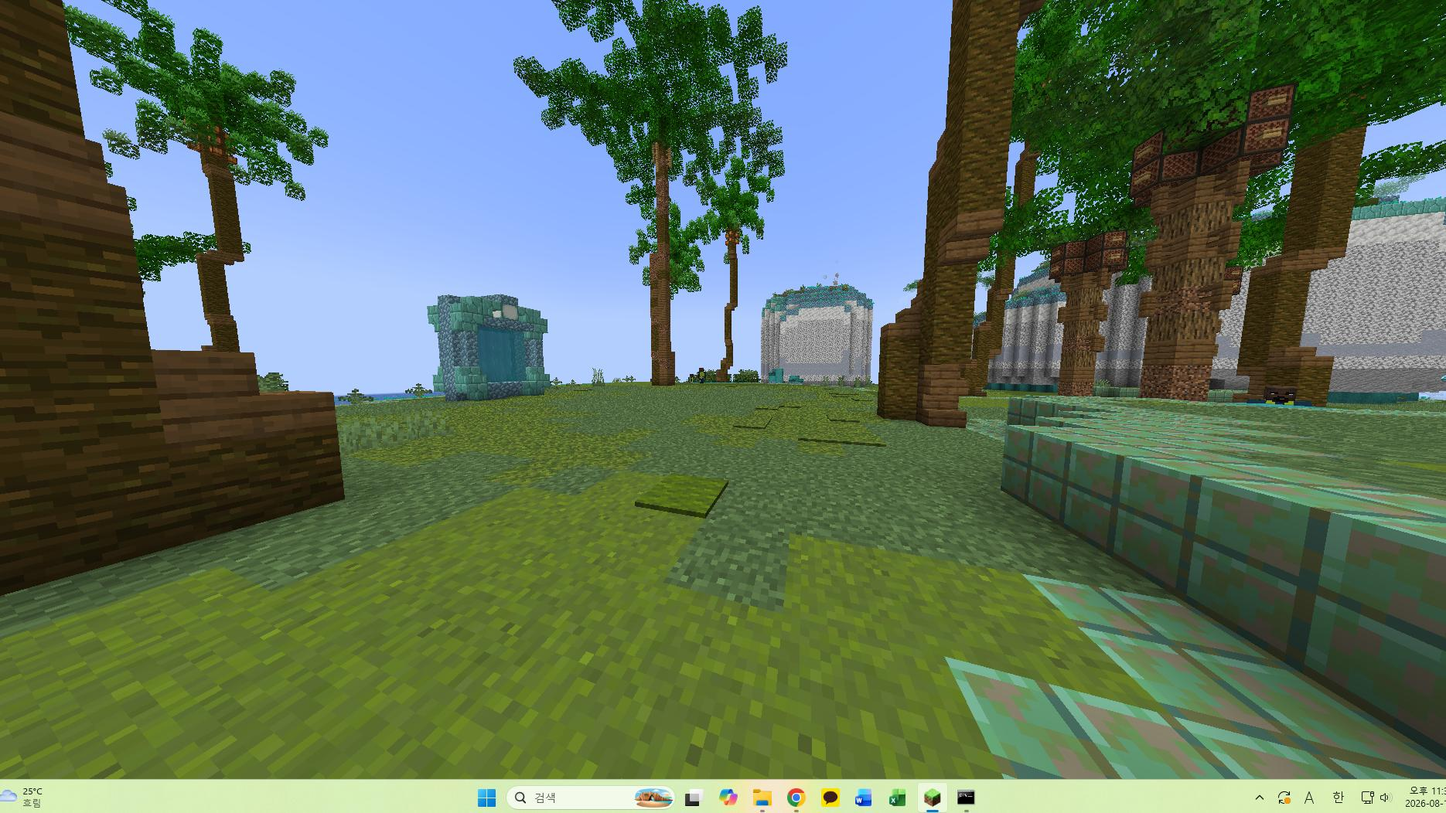Guardian: (697, 367, 708, 384)
